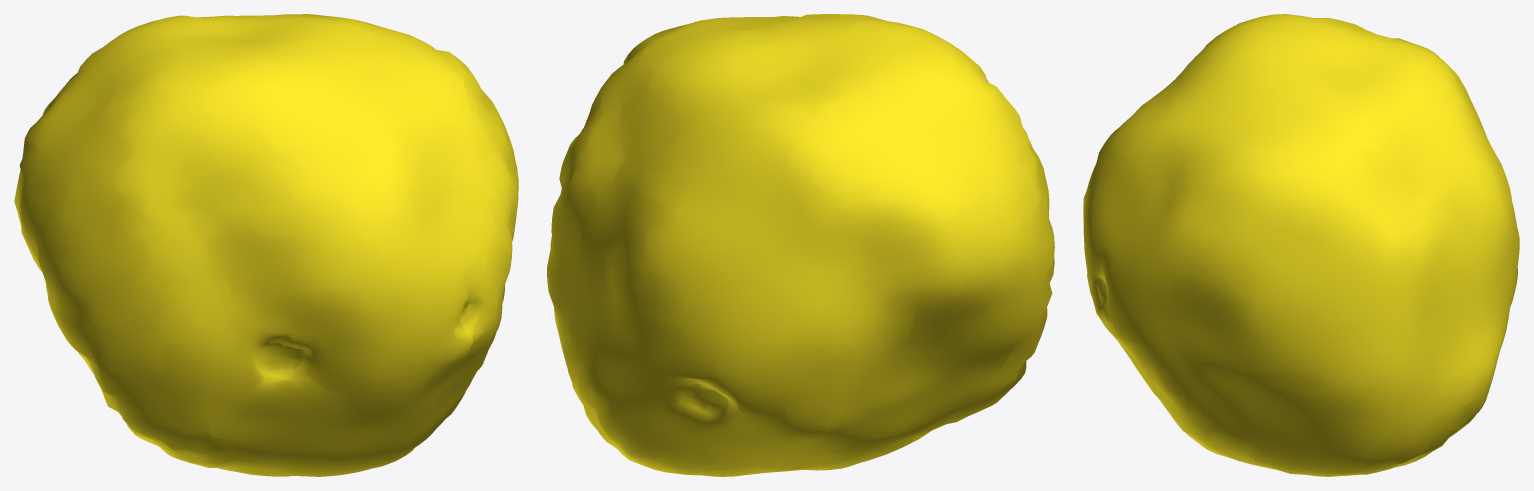
File: asteroid_variant2.obj
3 renders of one model, left to right at view 1: azimuth 30°, elevation 25°; view 2: azimuth 150°, elevation 25°; view 3: azimuth 270°, elevation 25°, orthographic. The views are drawn at different scales.
Visible parts, largest first — view 1: 10464_Asteroid_v1_Iterations-2; view 2: 10464_Asteroid_v1_Iterations-2; view 3: 10464_Asteroid_v1_Iterations-2.
Boxes of the visible parts, x1,y1,x2,y2 form: 10464_Asteroid_v1_Iterations-2: (14,14,518,476); 10464_Asteroid_v1_Iterations-2: (547,14,1054,476); 10464_Asteroid_v1_Iterations-2: (1083,14,1519,476).
Bounding box in the file's own units: 2.6 × 2.34 × 2.47.
